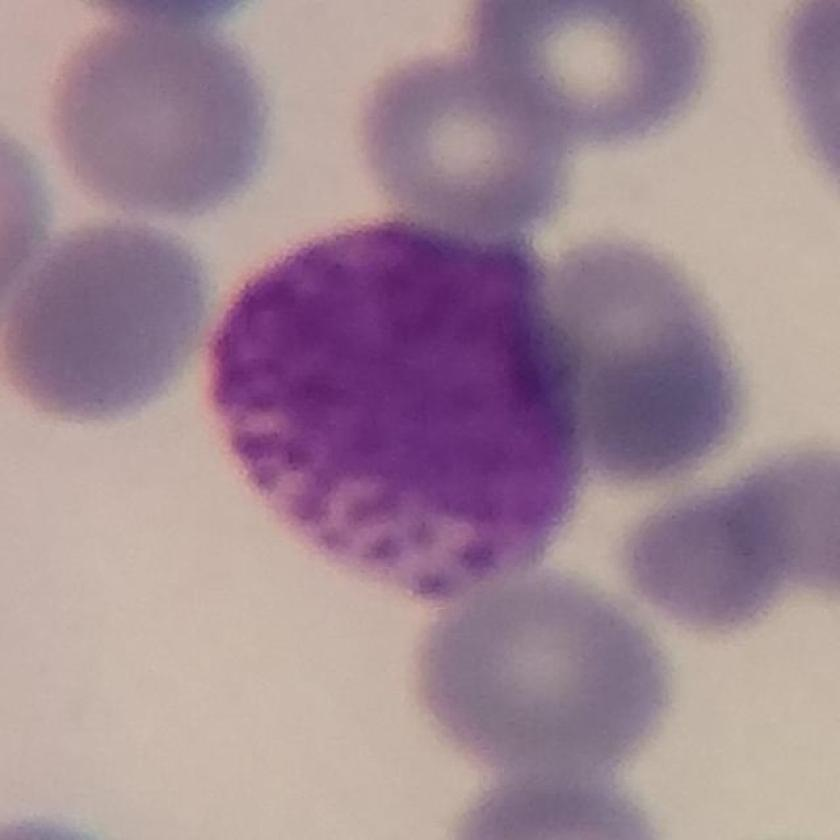basophil: (201, 211, 595, 606)
